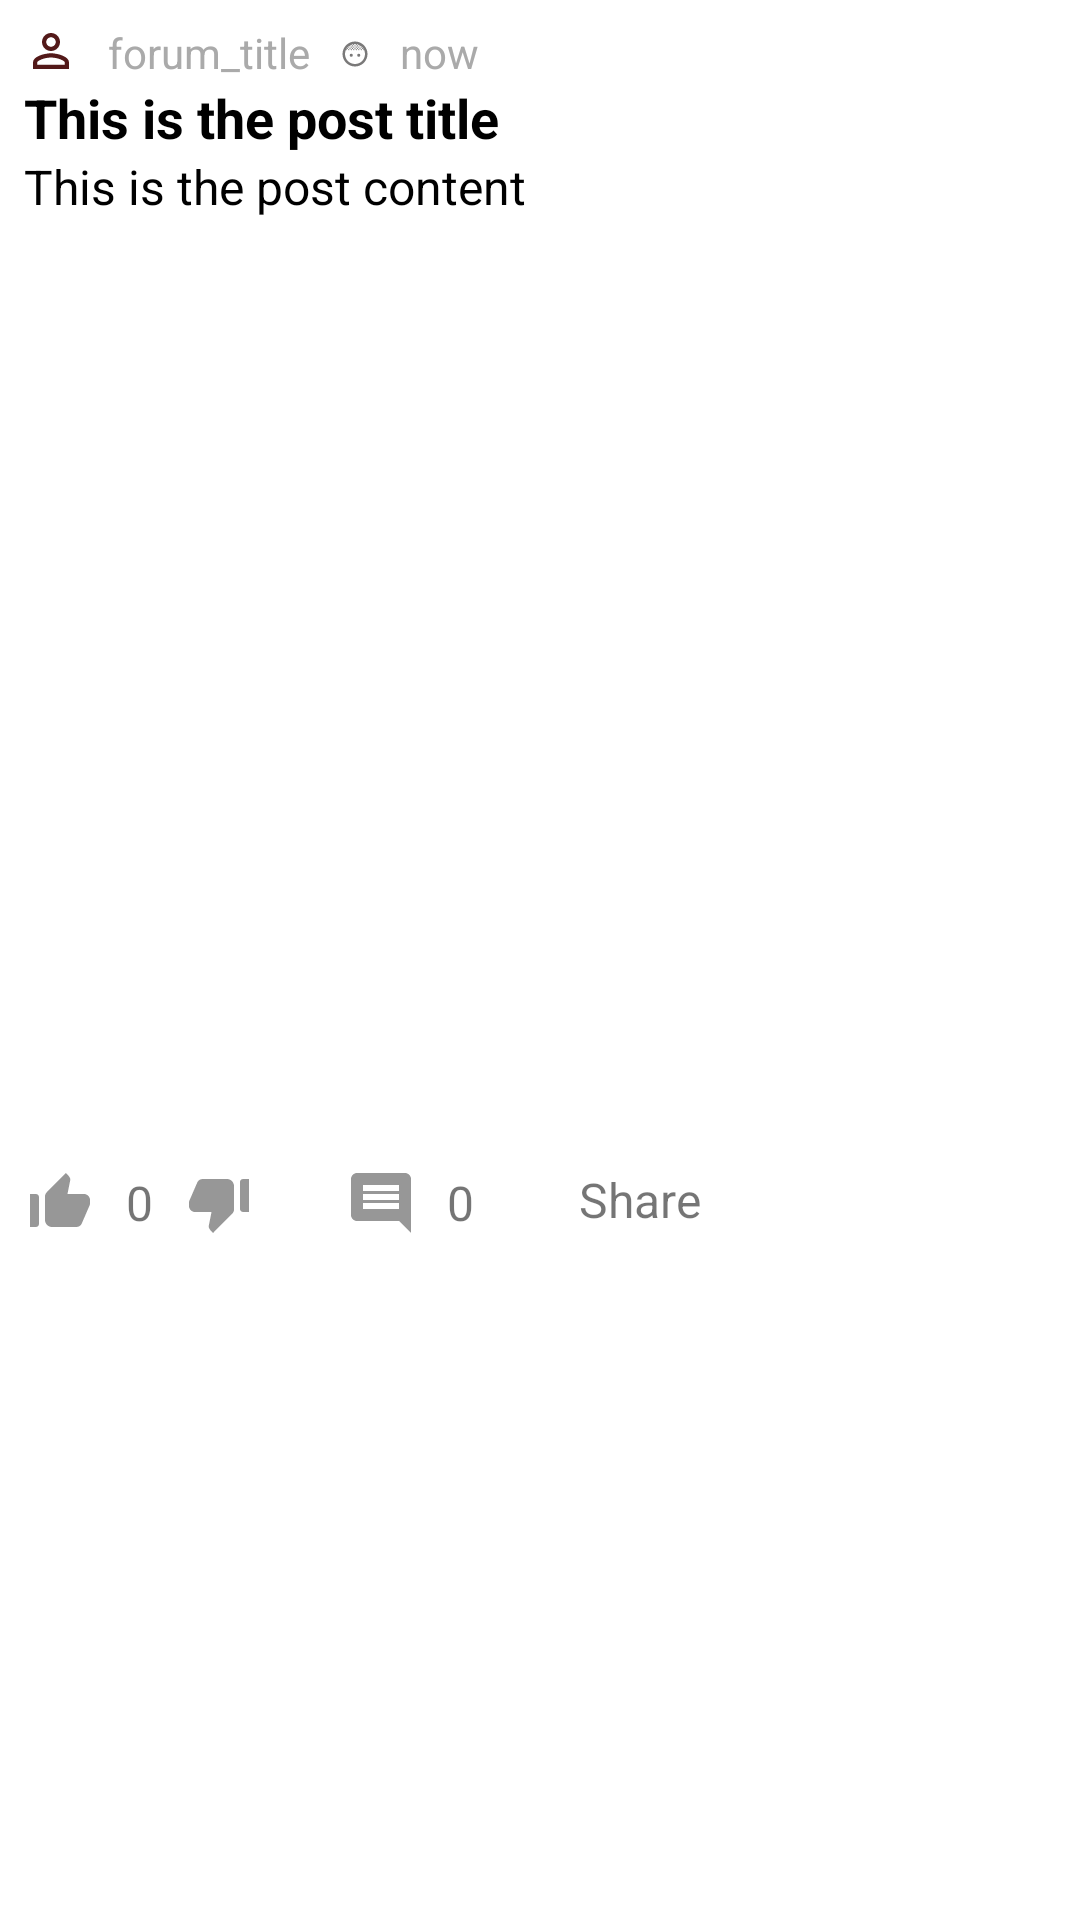

Named icons in this screenshot (1080px×1920px) and their bounding boxes, (x1, y1, x2, y2):
face: (342, 41, 368, 67)
insert comment: (351, 1173, 411, 1233)
person: (33, 33, 69, 69)
thumb down: (189, 1179, 249, 1233)
thumb up: (30, 1173, 90, 1227)
